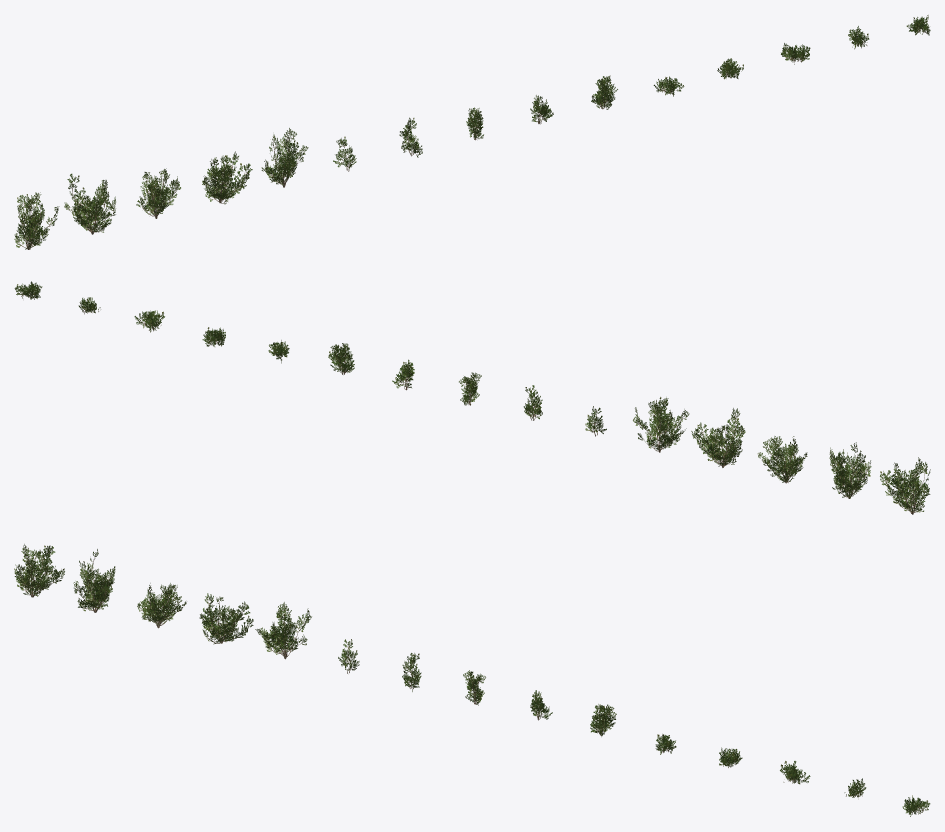
Rendered from bushes.glb.
3 views of the same model, one above another, from view 1: azimuth 30°, elevation 25°; view 2: azimuth 150°, elevation 25°; view 3: azimuth 330°, elevation 25° (orthographic).
Parts seen in each view (by area): view 1: Bush_big_002_LOD0, Bush_big_004_LOD0, Bush_big_001_LOD0, Bush_big_005_LOD0, Bush_big_003_LOD0, Bush_medium_005_LOD0; view 2: Bush_big_004_LOD0, Bush_big_001_LOD0, Bush_big_005_LOD0, Bush_big_002_LOD0, Bush_big_003_LOD0, Bush_medium_005_LOD0; view 3: Bush_big_001_LOD0, Bush_big_004_LOD0, Bush_big_005_LOD0, Bush_big_002_LOD0, Bush_big_003_LOD0, Bush_medium_005_LOD0.
Boxes of the visible parts, x1,y1,x2,y2 form: Bush_big_002_LOD0: [64, 173, 115, 234]; Bush_big_004_LOD0: [202, 151, 252, 204]; Bush_big_001_LOD0: [14, 192, 59, 249]; Bush_big_005_LOD0: [261, 128, 308, 187]; Bush_big_003_LOD0: [136, 168, 180, 218]; Bush_medium_005_LOD0: [591, 75, 617, 109]; Bush_big_004_LOD0: [691, 408, 745, 467]; Bush_big_001_LOD0: [880, 457, 930, 514]; Bush_big_005_LOD0: [633, 397, 689, 452]; Bush_big_002_LOD0: [829, 442, 871, 498]; Bush_big_003_LOD0: [757, 436, 807, 483]; Bush_medium_005_LOD0: [328, 343, 354, 374]; Bush_big_001_LOD0: [14, 544, 64, 597]; Bush_big_004_LOD0: [199, 593, 253, 644]; Bush_big_005_LOD0: [255, 602, 311, 659]; Bush_big_002_LOD0: [73, 549, 115, 612]; Bush_big_003_LOD0: [137, 583, 186, 628]; Bush_medium_005_LOD0: [590, 704, 616, 736].
Size of the model in its own units: 28.75 by 1.75 by 1.67.
2 materials, 2 textured.
